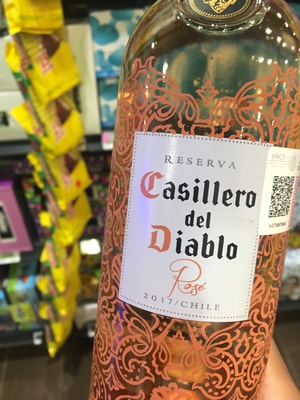casillero del diablo rose: (88, 18, 300, 393)
